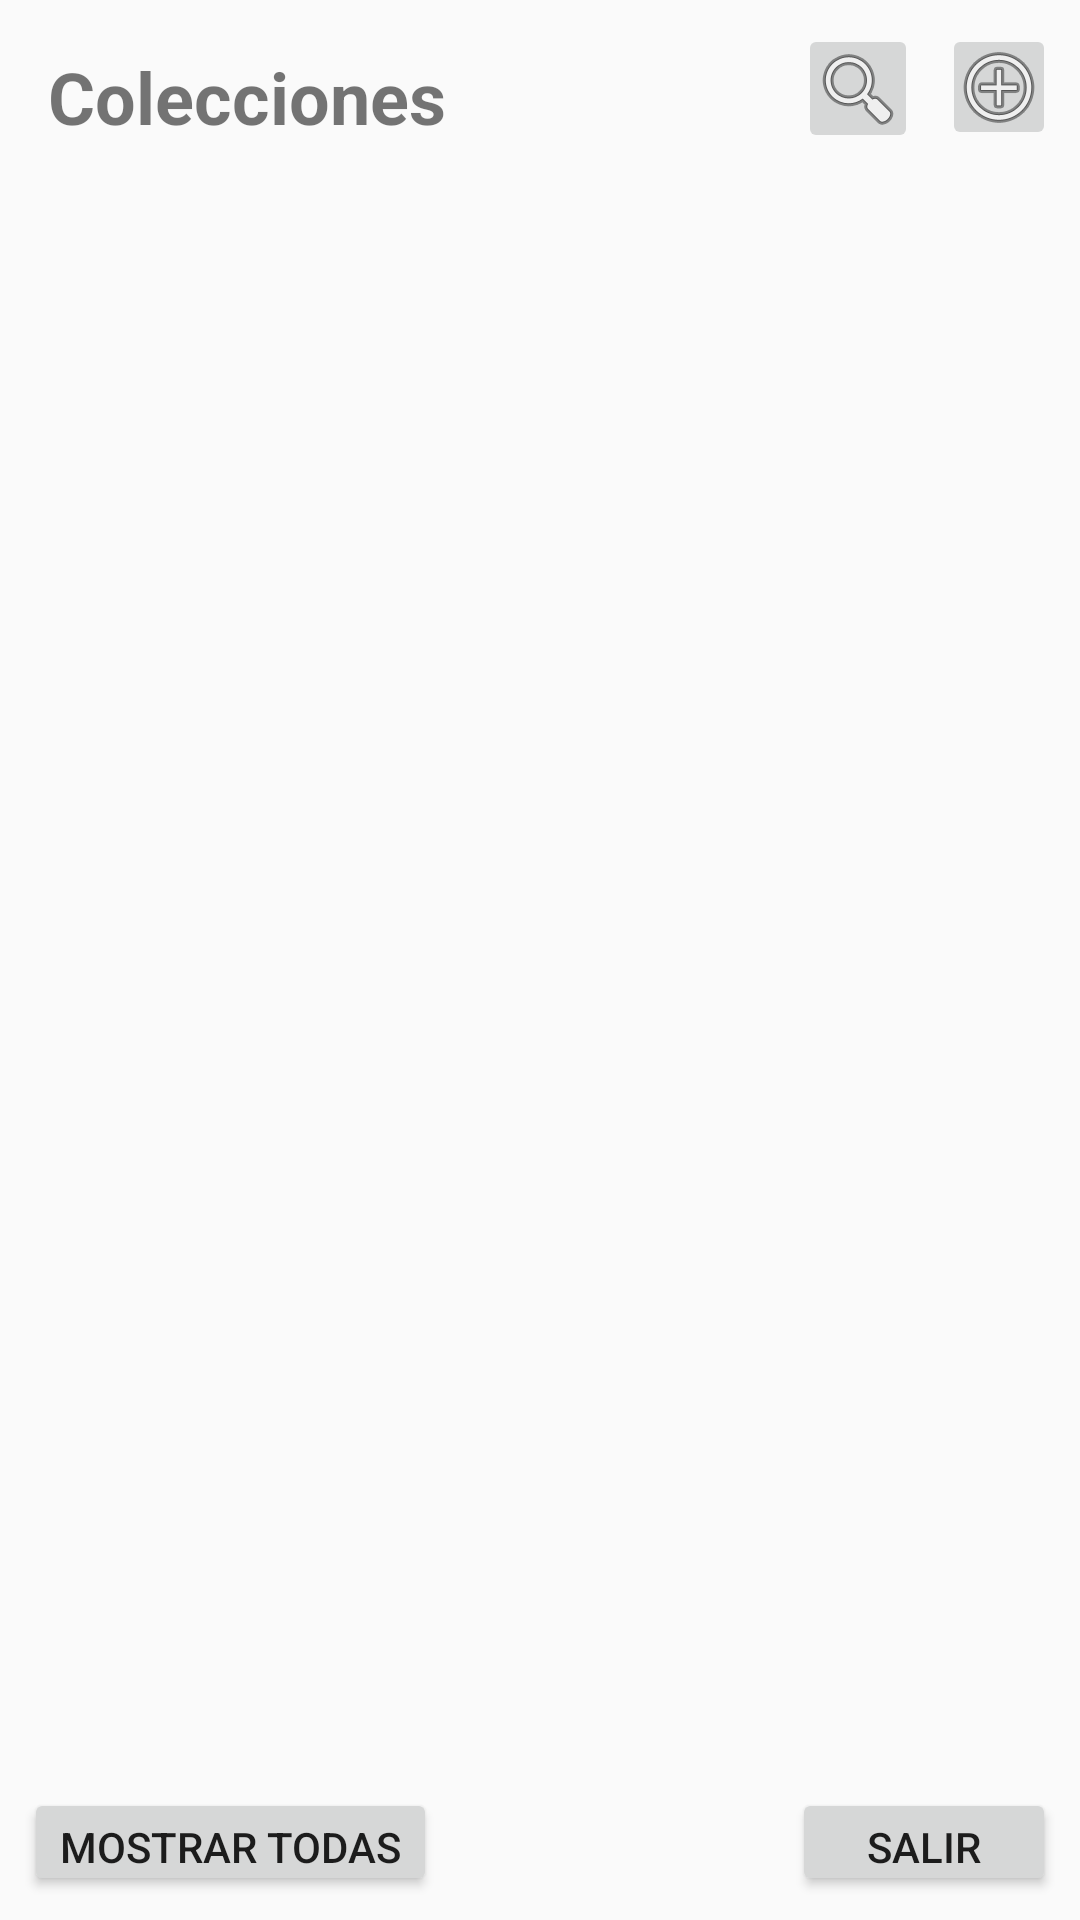

Screen size 1080w x 1920h. Icon name, then its center in pixels as (x=x, y=y):
add: (x=999, y=87)
search: (x=858, y=88)
